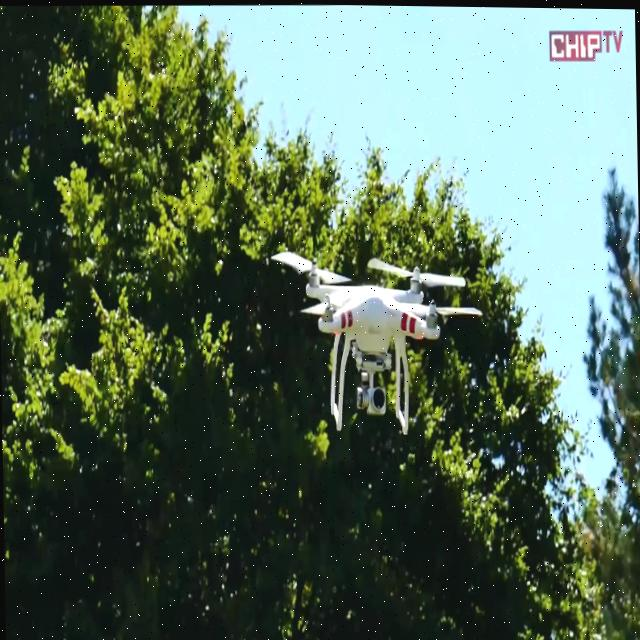drone: (269, 239, 484, 437)
